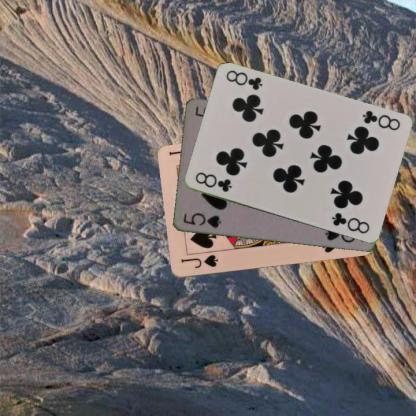5s: (180, 210, 223, 230)
8c: (192, 169, 233, 194), (359, 108, 401, 132)
Js: (178, 252, 219, 270)
